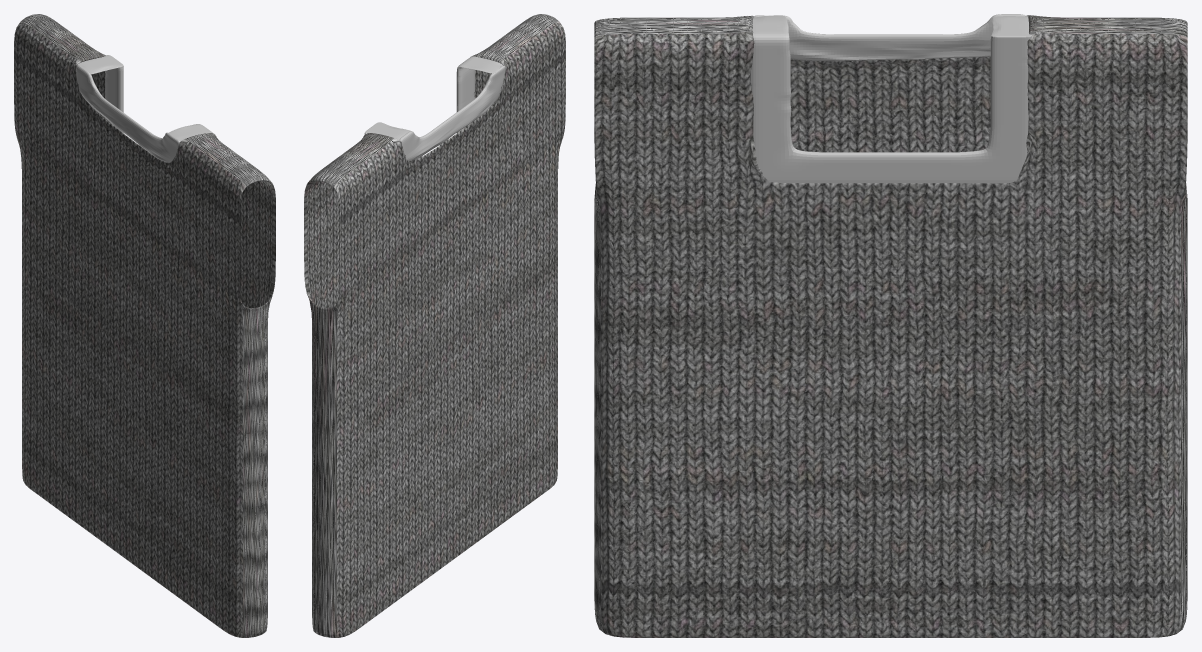
File: square-neck.fbx
3 views of the same model, side by side, from view 1: azimuth 30°, elevation 25°; view 2: azimuth 150°, elevation 25°; view 3: azimuth 270°, elevation 25° (orthographic). The views are drawn at different scales.
Parts seen in each view (by area): view 1: Cube.001, Plane.002, Plane.001; view 2: Cube.001, Plane.002, Plane.001; view 3: Cube.001, Plane.001, Plane.002.
Part boxes in pixels (x1,y1,x2,y2): Cube.001: (14, 14, 275, 637); Plane.002: (76, 65, 180, 162); Plane.001: (77, 55, 212, 140); Cube.001: (304, 14, 565, 637); Plane.002: (399, 65, 505, 160); Plane.001: (364, 56, 502, 139); Cube.001: (594, 15, 1187, 637); Plane.001: (750, 15, 1031, 183); Plane.002: (753, 14, 1025, 61).
Size of the model in its own units: 16.53 by 179 by 159.
